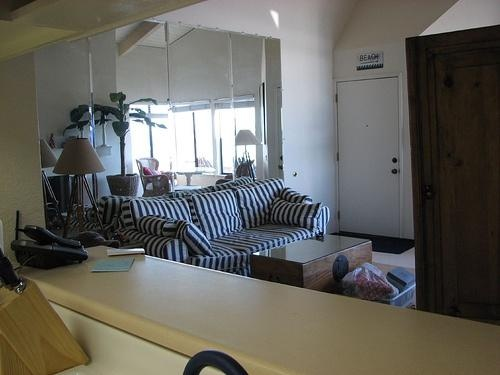chair: (133, 159, 179, 197)
pottedplant: (65, 90, 170, 197)
sofa: (119, 177, 331, 278)
